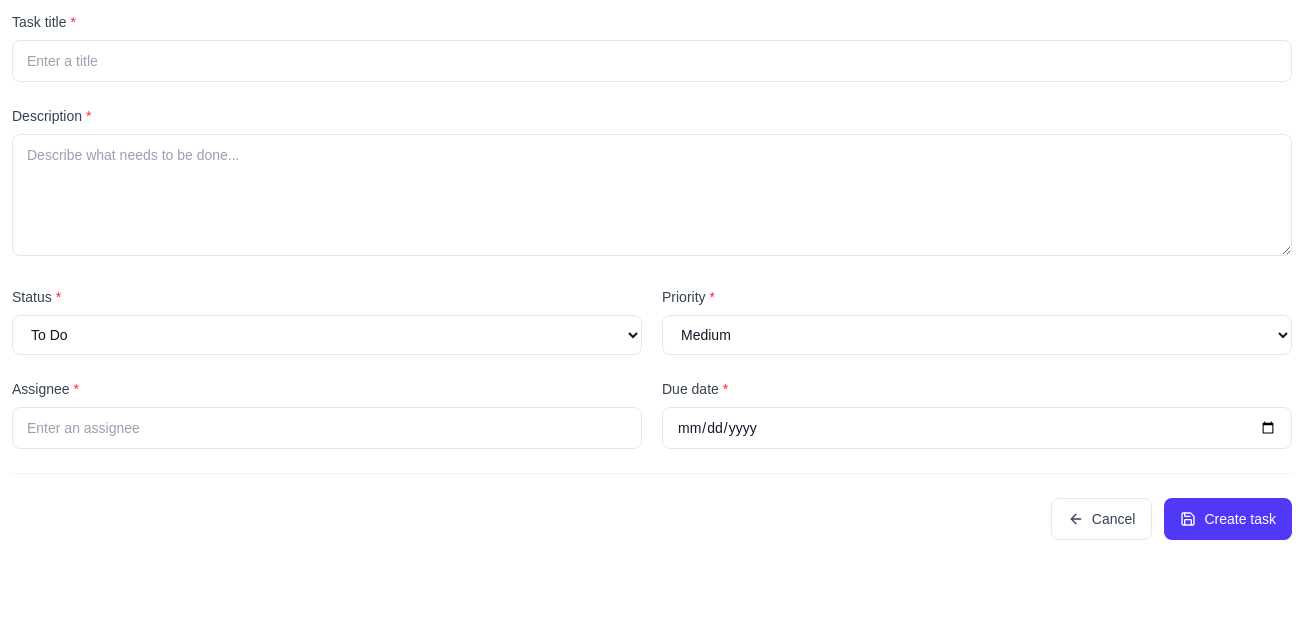
it: TaskForm validation › shows validation errors when required fields are empty
The image size is (1304, 635).
Click the button "Create task".
click(1228, 519)  # box [1164,498,1292,540]
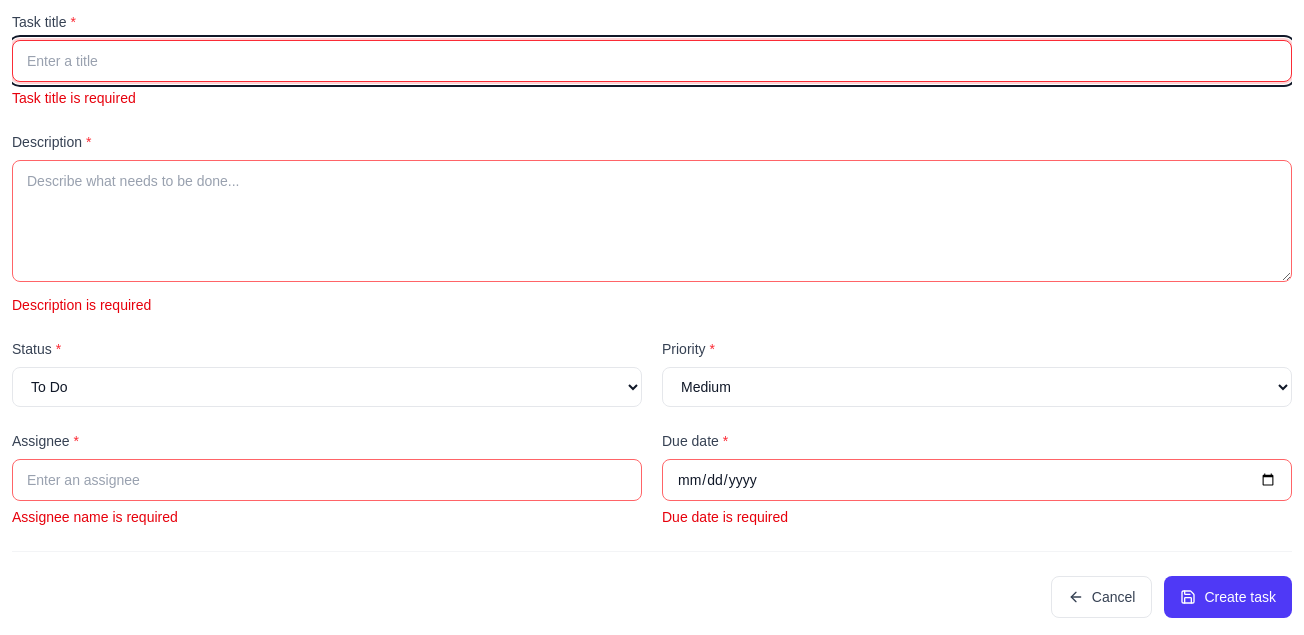
Result: the text "Task title is required" is shown at [12,90,136,106]
